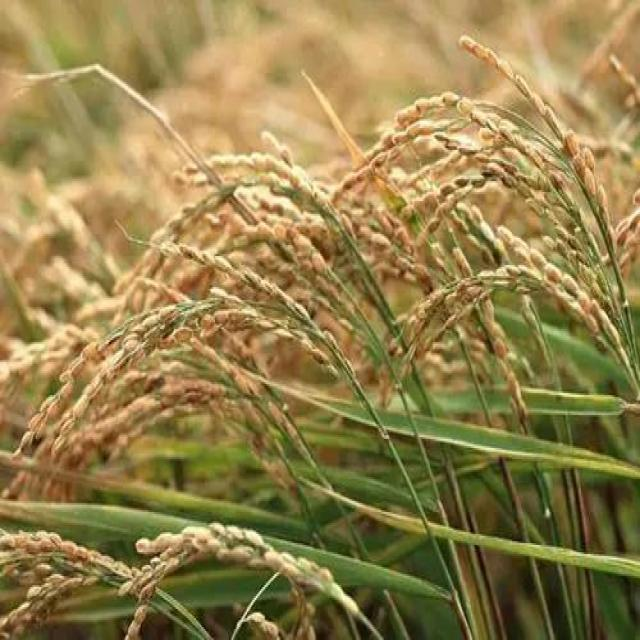Padi: (14, 38, 634, 484), (6, 504, 386, 640)
